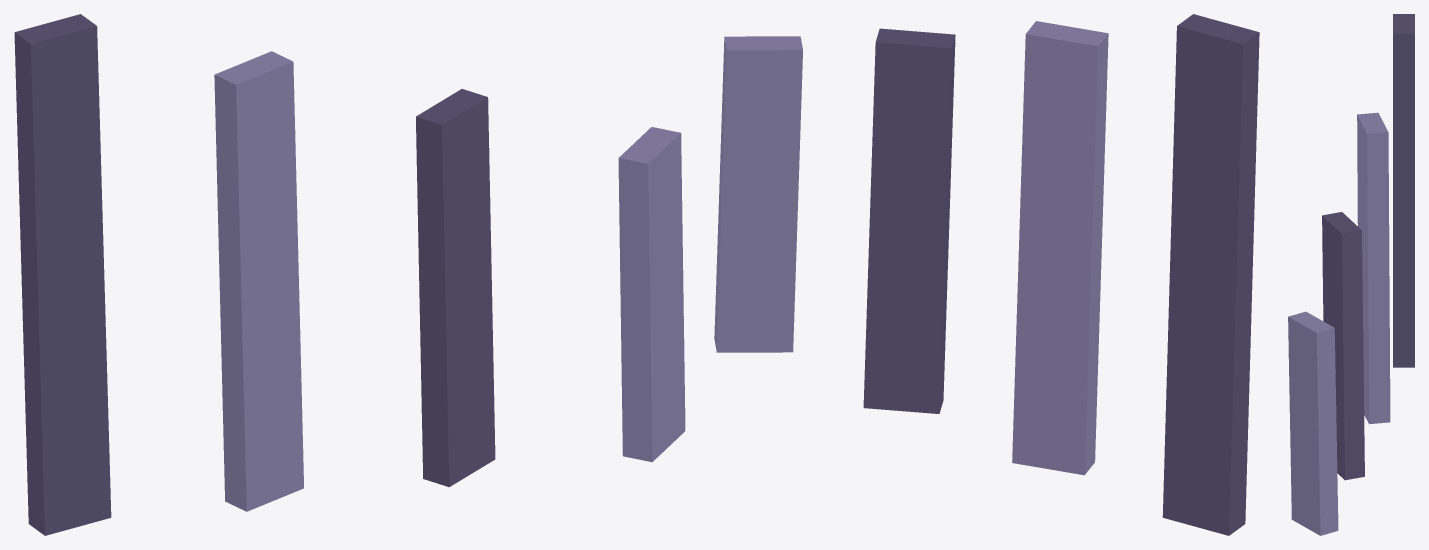
File: land-monoliths-01.glb
3 renders of one model, left to right at view 1: azimuth 30°, elevation 25°; view 2: azimuth 150°, elevation 25°; view 3: azimuth 270°, elevation 25°, orthographic. The views are drawn at different scales.
Visible parts, largest first — view 1: slab_0, slab_1, slab_2, slab_3; view 2: slab_0, slab_1, slab_2, slab_3; view 3: slab_3, slab_1, slab_2, slab_0.
Boxes of the visible parts, left/top/right/bottom form: slab_0: left=14, top=14, right=111, bottom=535; slab_1: left=214, top=51, right=303, bottom=511; slab_2: left=416, top=89, right=495, bottom=487; slab_3: left=618, top=127, right=685, bottom=462; slab_0: left=1162, top=14, right=1259, bottom=535; slab_1: left=1012, top=21, right=1108, bottom=475; slab_2: left=863, top=28, right=955, bottom=413; slab_3: left=714, top=36, right=802, bottom=352; slab_3: left=1288, top=311, right=1338, bottom=535; slab_1: left=1357, top=112, right=1390, bottom=424; slab_2: left=1322, top=212, right=1364, bottom=480; slab_0: left=1393, top=14, right=1414, bottom=367.
Bounding box in the file's own units: 38.02 × 30.12 × 10.48.
